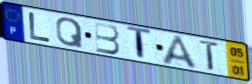A: (161, 34, 200, 71)
B: (93, 21, 122, 56)
L: (27, 10, 53, 44)
Q: (55, 17, 85, 50)
T: (126, 25, 153, 63), (199, 38, 222, 73)
